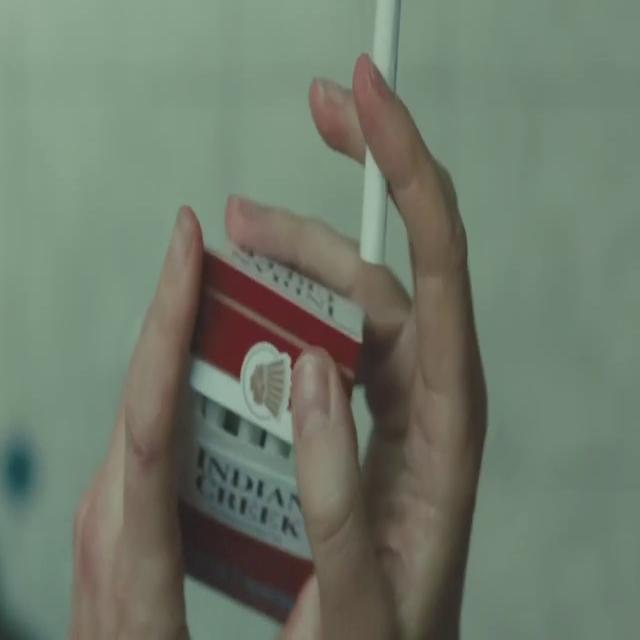Smooking: (359, 8, 407, 279)
